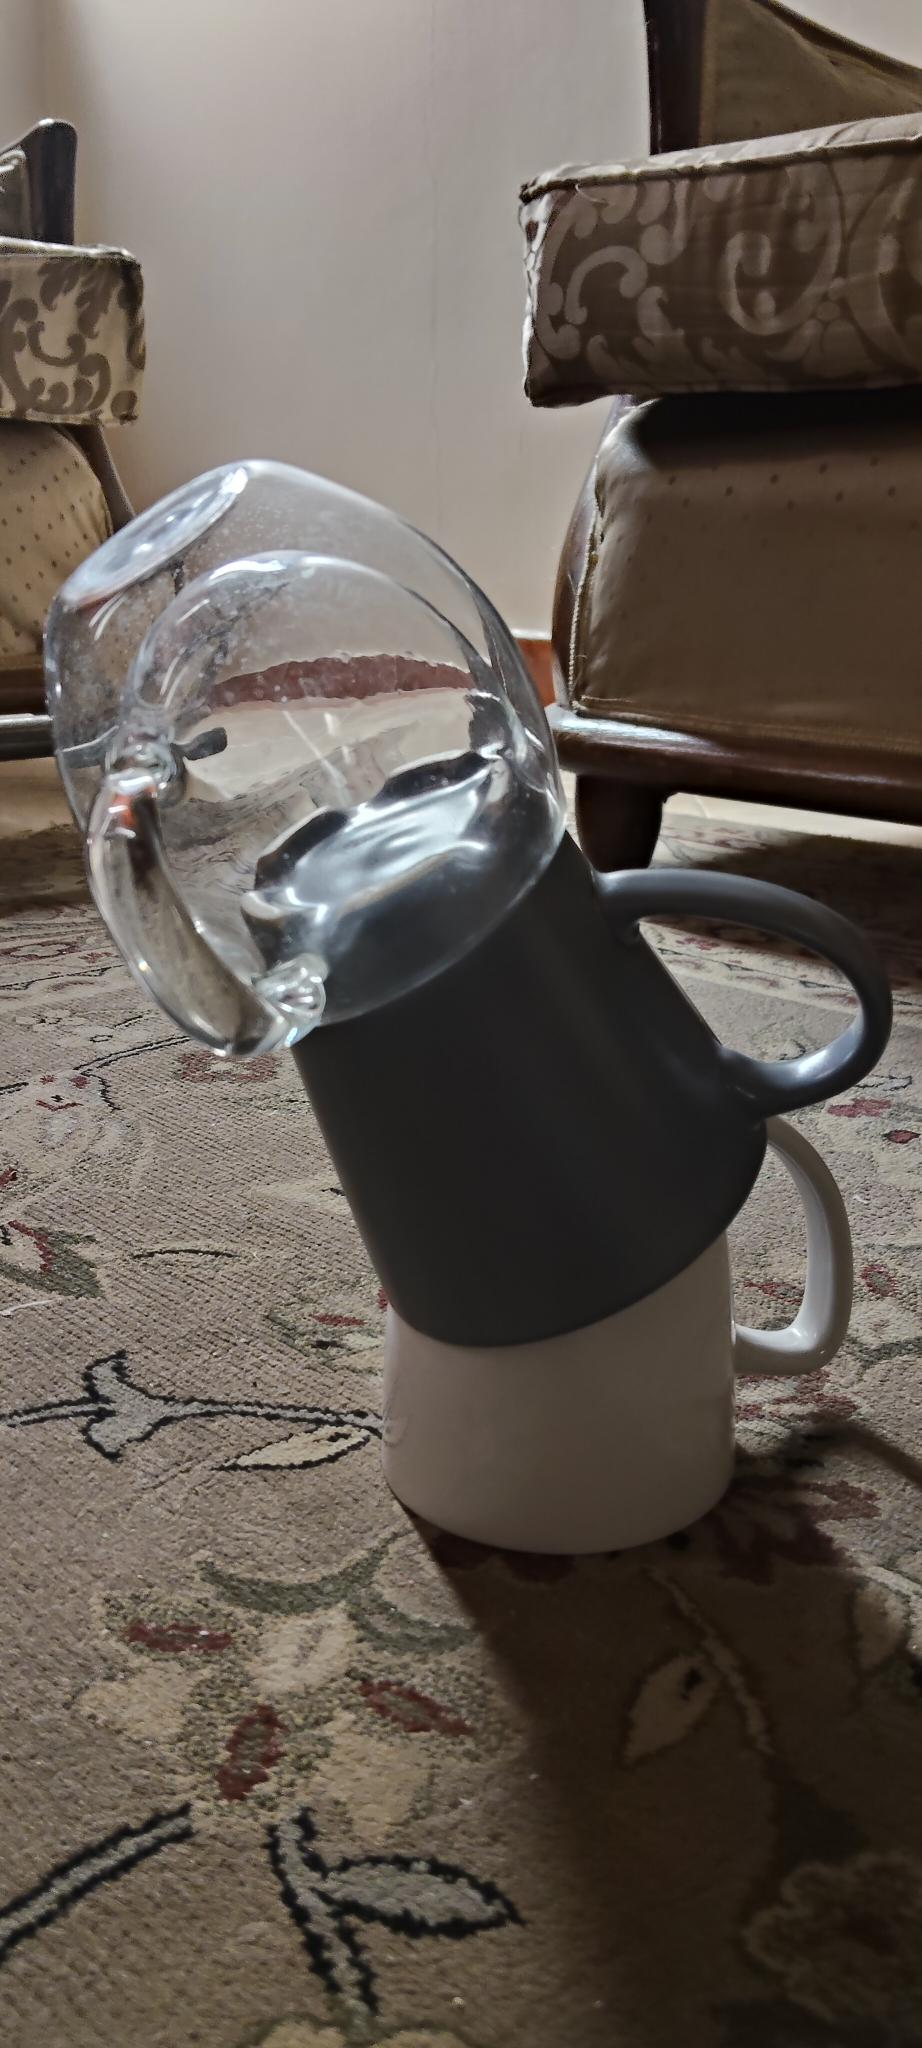Mug: (245, 752, 890, 1347), (60, 442, 570, 1072), (380, 1079, 847, 1562)
